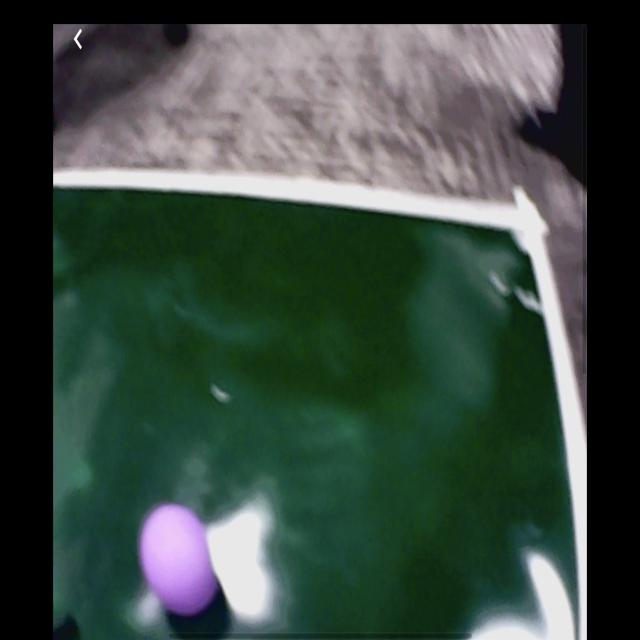ball: (140, 496, 217, 616)
